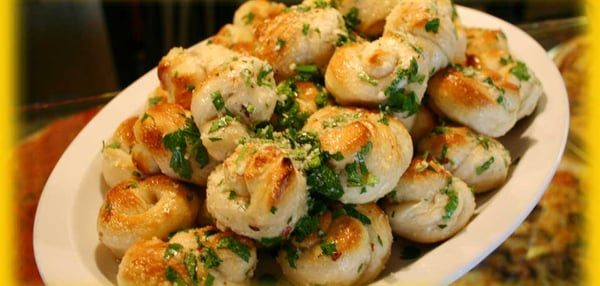sushi: (15, 0, 586, 284)
